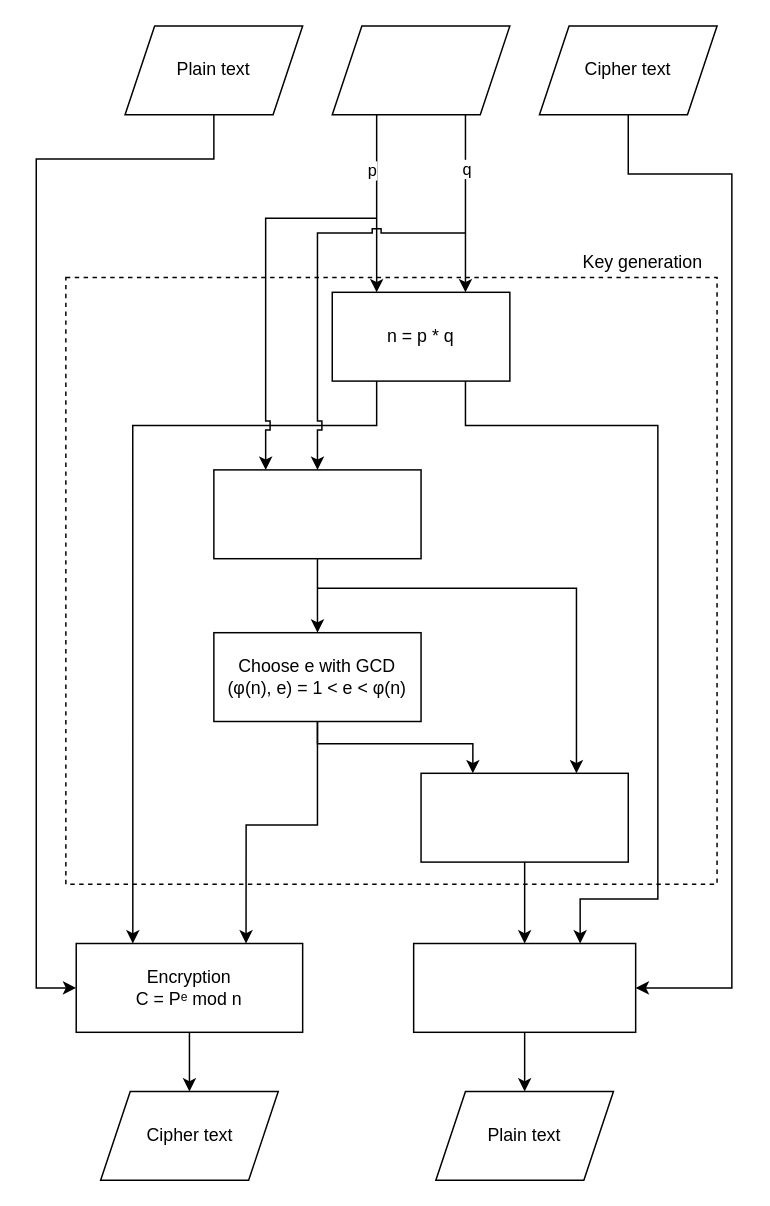
This 770x1206 diagram has some shape labels left out. Each missing label, with the centre of its shape:
"Calculate d e * d mod φ(n) = 1" belongs at [524,817].
"Decryption P = Cᴰ mod n" belongs at [524,987].
"Key generation variables" belongs at [420,69].
"φ(n) = (p-1) * (q-1)" belongs at [316,513].
